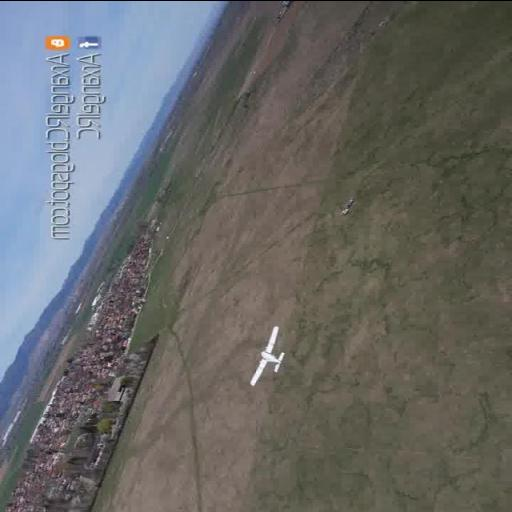uav: (248, 323, 290, 389)
